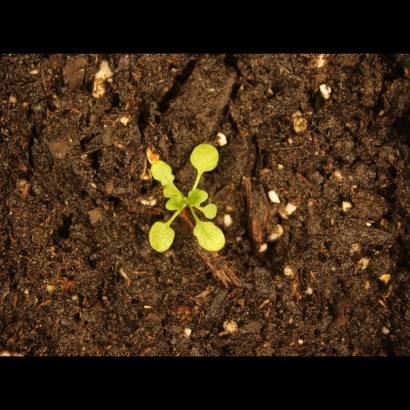leaf: (190, 218, 230, 254), (188, 138, 224, 176), (146, 217, 179, 258), (151, 159, 176, 190), (202, 201, 225, 224), (186, 186, 209, 209), (162, 192, 185, 215)
